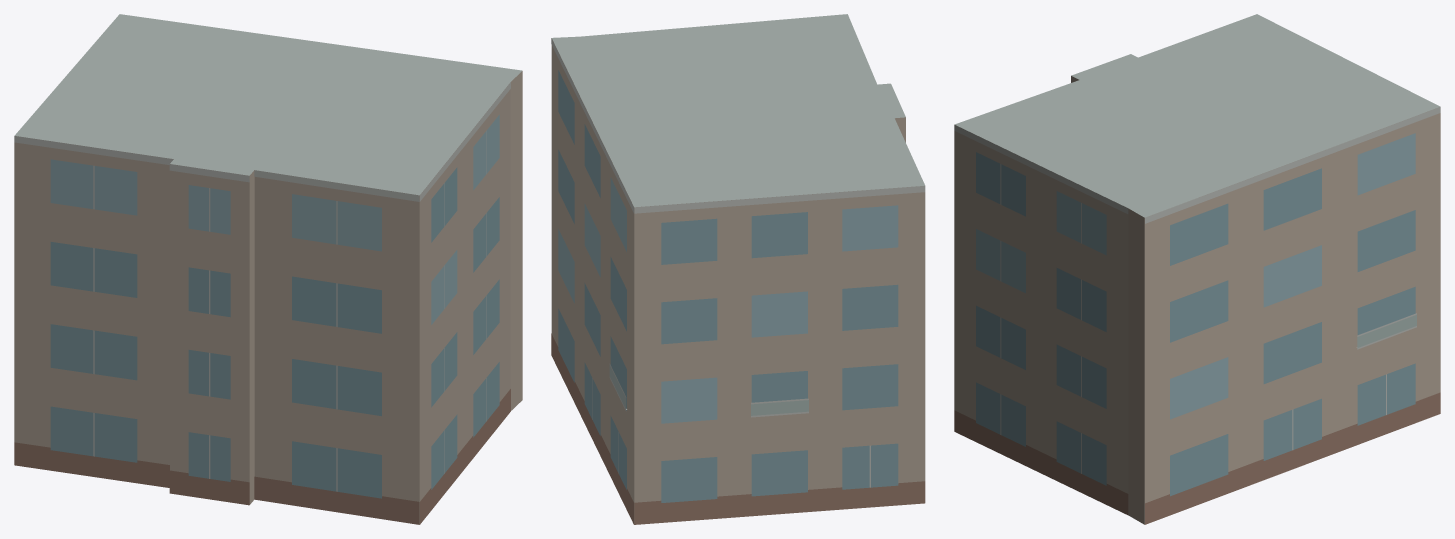
Rendered from survey-upis-32676053.glb.
3 renders of one model, left to right at view 1: azimuth 30°, elevation 25°; view 2: azimuth 150°, elevation 25°; view 3: azimuth 270°, elevation 25°, orthographic. The views are drawn at different scales.
Visible parts, largest first — view 1: survey-upis-32676053.tmp; view 2: survey-upis-32676053.tmp; view 3: survey-upis-32676053.tmp.
Part boxes in pixels (<box>): survey-upis-32676053.tmp: <box>14,14,522,524</box>; survey-upis-32676053.tmp: <box>551,14,925,524</box>; survey-upis-32676053.tmp: <box>954,14,1440,524</box>.
Size of the model in its own units: 17.23 by 12.1 by 17.37.
